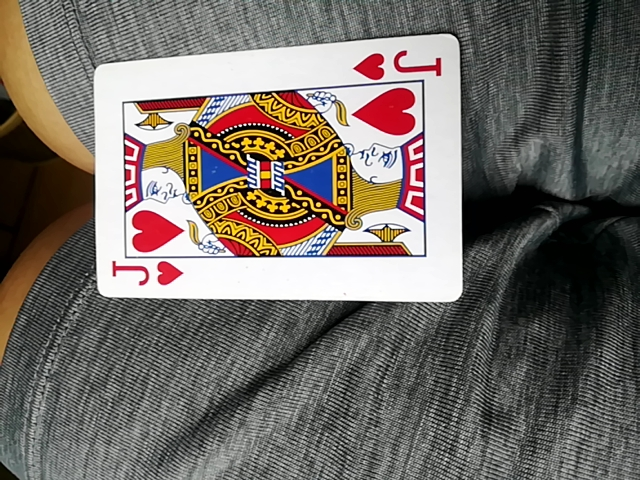hx j: (98, 31, 464, 300)
